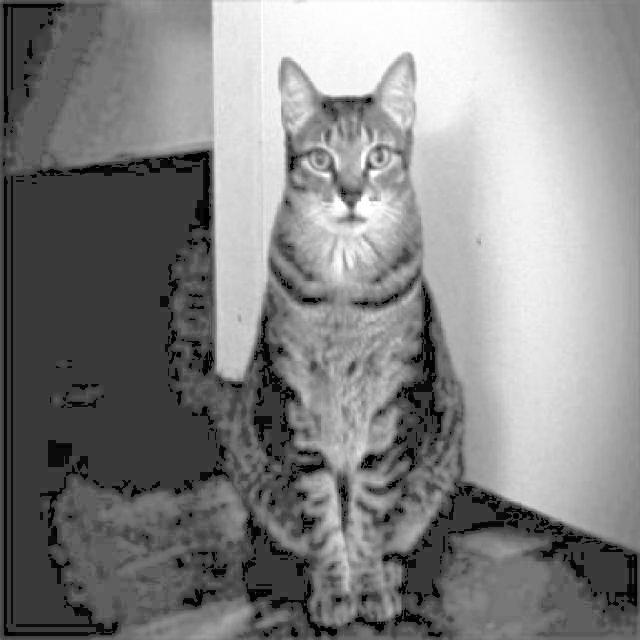Cat: (215, 37, 472, 640)
